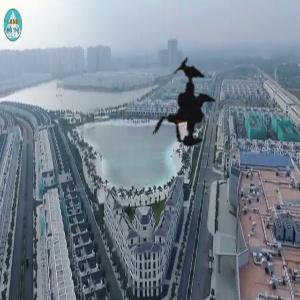drone: (116, 39, 249, 172)
